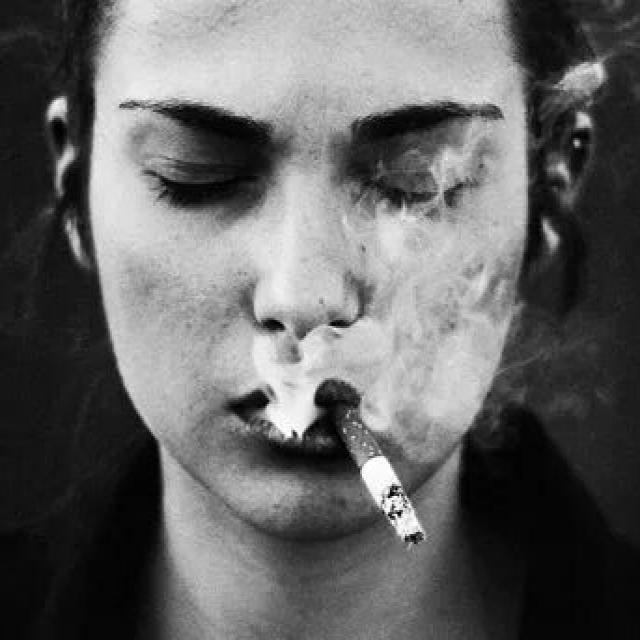smoke: (327, 396, 431, 552)
